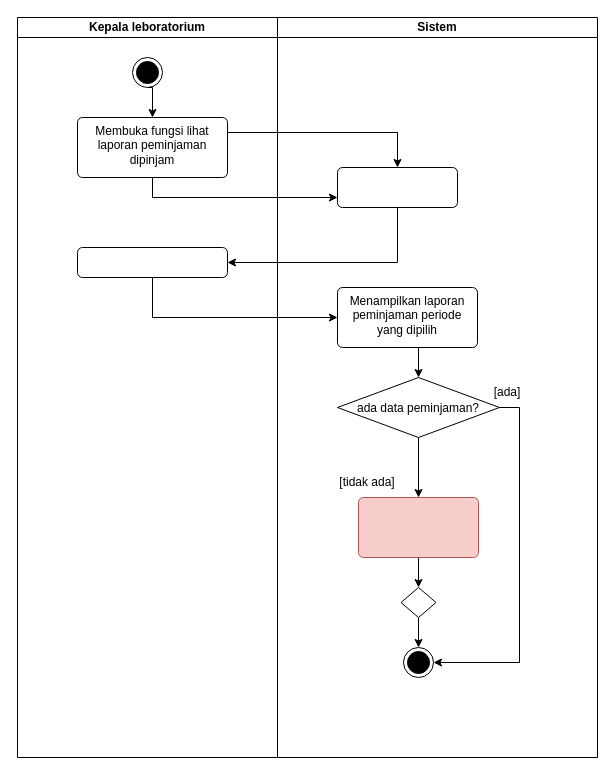
Image size: 615x775. Some labels were removed from this diagram. Each missing label, with the centre of its shape:
Memilih periode laporan: (x=152, y=262)
Menampilkan daftar periode laporan: (x=397, y=187)
Perbarui status perlatan menjadi tersedia: (x=418, y=527)
